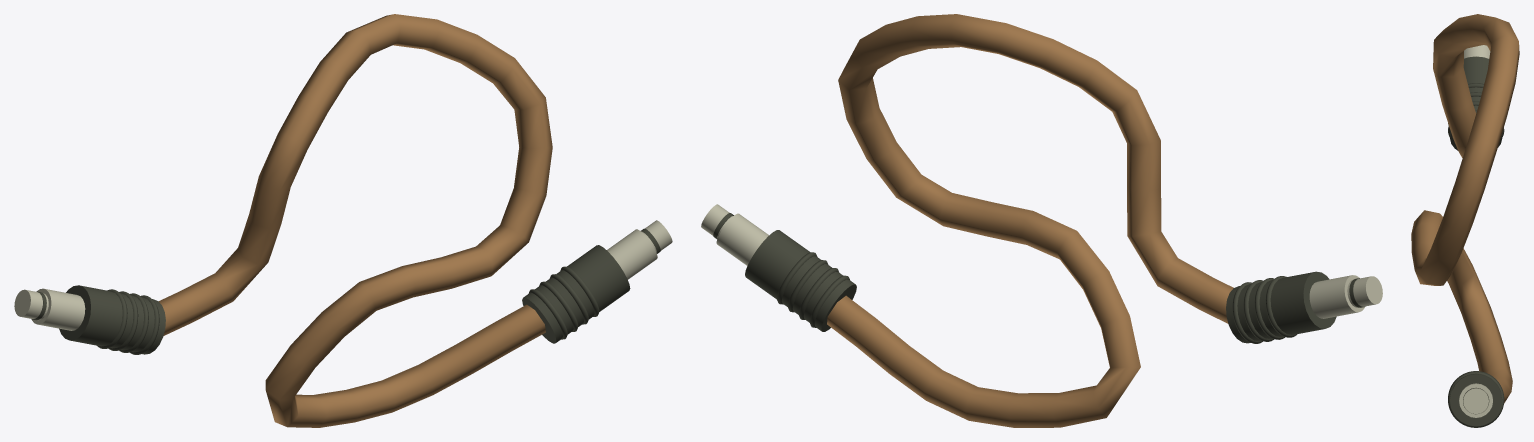
The model's file is patch-leads.glb.
The picture shows the model from 3 angles, left to right: view 1: azimuth 30°, elevation 25°; view 2: azimuth 150°, elevation 25°; view 3: azimuth 270°, elevation 25°; orthographic projection. The views are drawn at different scales.
Parts seen in each view (by area): view 1: patch-leads; view 2: patch-leads; view 3: patch-leads.
Part boxes in pixels (box(x1,y1,x2,y2)): patch-leads: box(14, 14, 672, 427); patch-leads: box(701, 14, 1382, 427); patch-leads: box(1411, 14, 1519, 427).
Size of the model in its own units: 0.1689 by 0.0967 by 0.0261.
